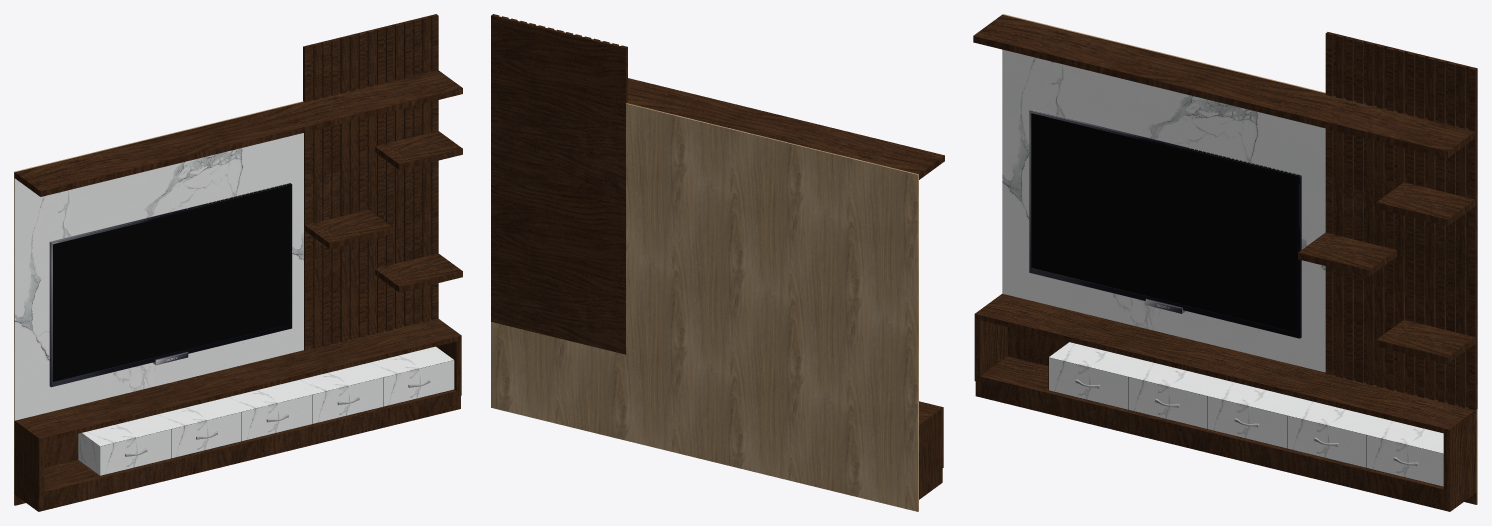
3 renders of one model, left to right at view 1: azimuth 30°, elevation 25°; view 2: azimuth 150°, elevation 25°; view 3: azimuth 330°, elevation 25°, orthographic. The views are drawn at different scales.
Parts seen in each view (by area): view 1: Material2.007; view 2: Material2.007; view 3: Material2.007.
Part boxes in pixels (left/top/right/bottom): Material2.007: left=14, top=14, right=462, bottom=511; Material2.007: left=491, top=14, right=944, bottom=511; Material2.007: left=973, top=14, right=1477, bottom=511.
Size of the model in its own units: 1.77 by 1.55 by 0.1927.
10 materials, 8 textured.
